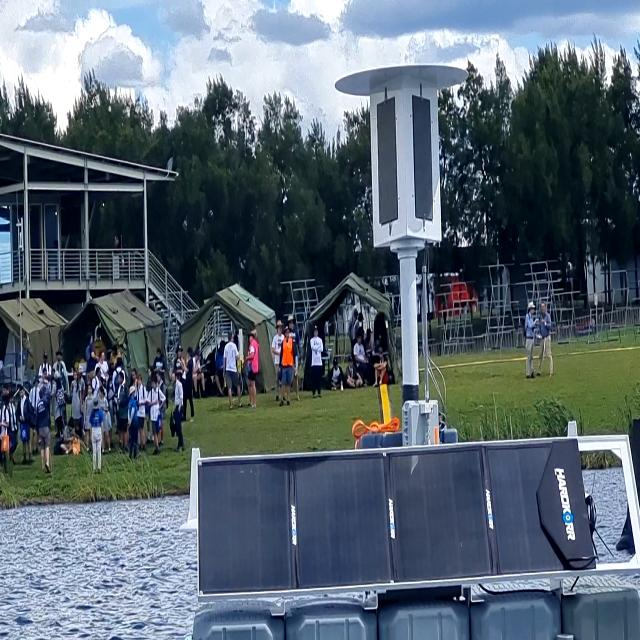led: (373, 89, 438, 229), (406, 86, 437, 232), (372, 91, 402, 228)
